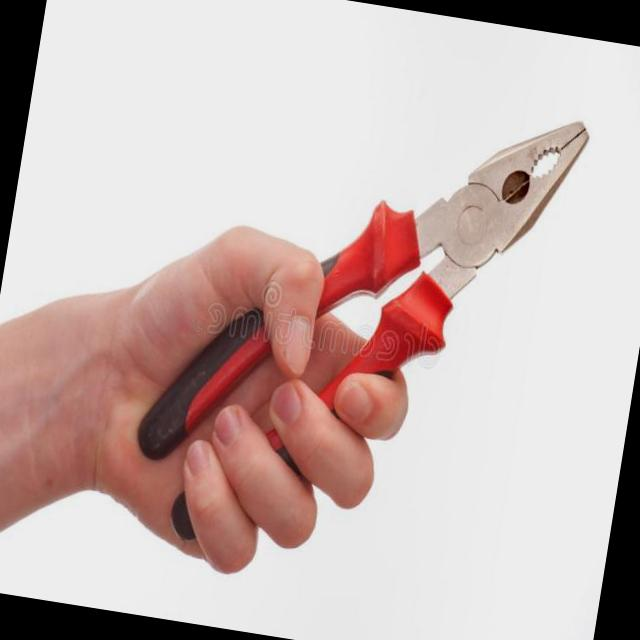pliers: (317, 124, 588, 403), (138, 310, 269, 457)
